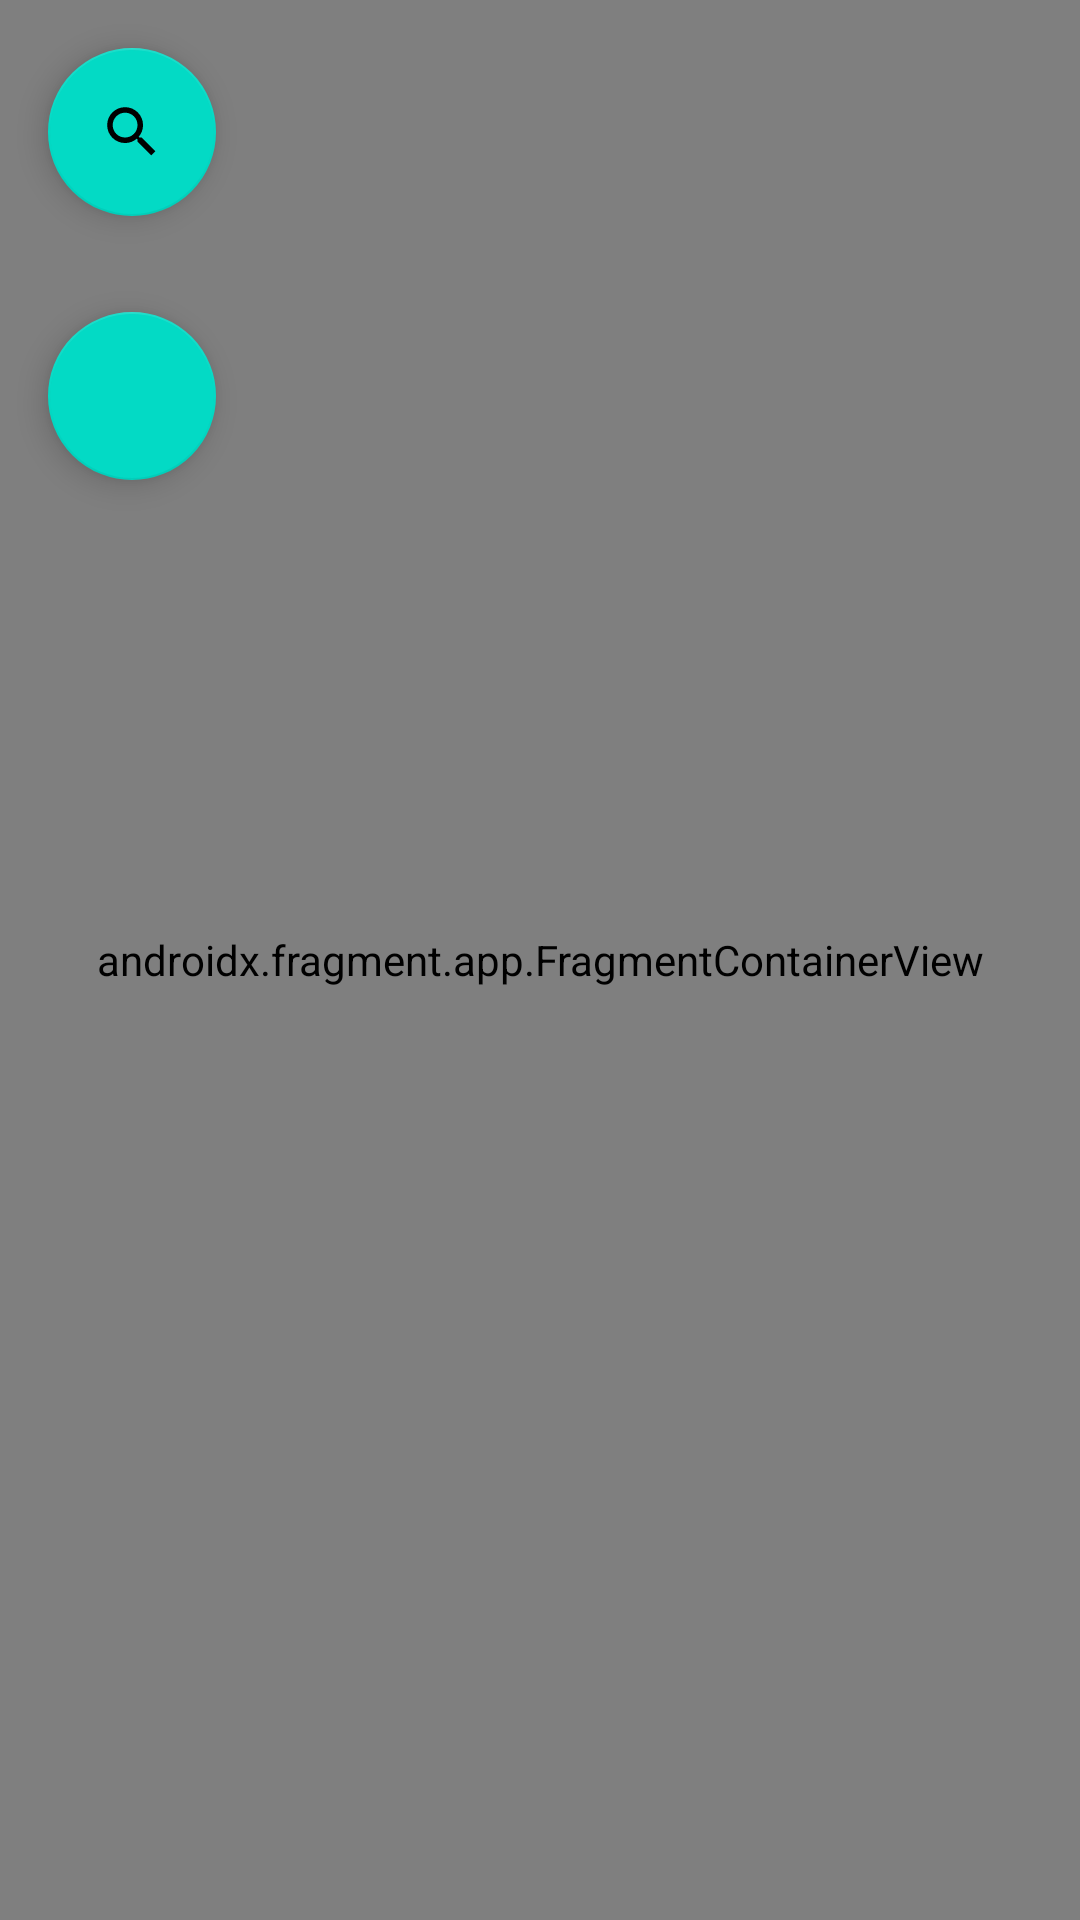

Named icons in this screenshot (1080×1920) and their centers, point (x, y):
searh: point (132, 132)
